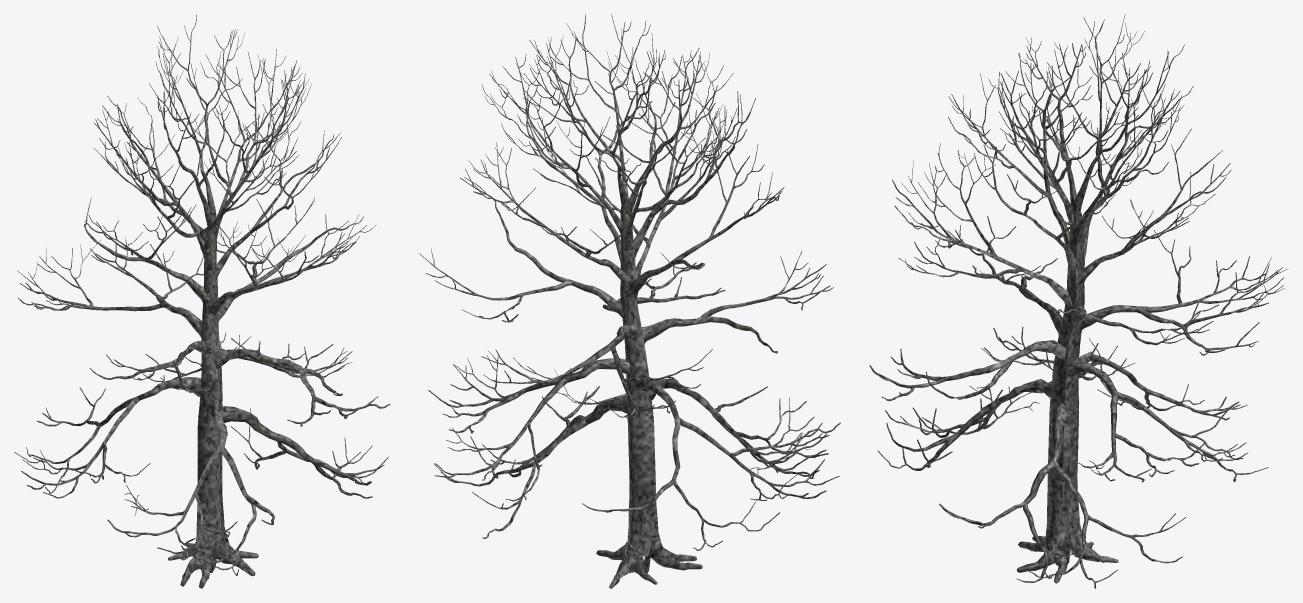
Rendered from Dead_derevo_03.fbx.
3 views of the same model, side by side, from view 1: azimuth 30°, elevation 25°; view 2: azimuth 150°, elevation 25°; view 3: azimuth 270°, elevation 25° (orthographic). The views are drawn at different scales.
Visible parts, largest first — view 1: d4; view 2: d4; view 3: d4.
Boxes of the visible parts, bbox=[...] form: d4: bbox=[14, 14, 390, 588]; d4: bbox=[419, 14, 840, 588]; d4: bbox=[869, 14, 1288, 588].
Bounding box in the file's own units: 87.74 × 122 × 85.65.
